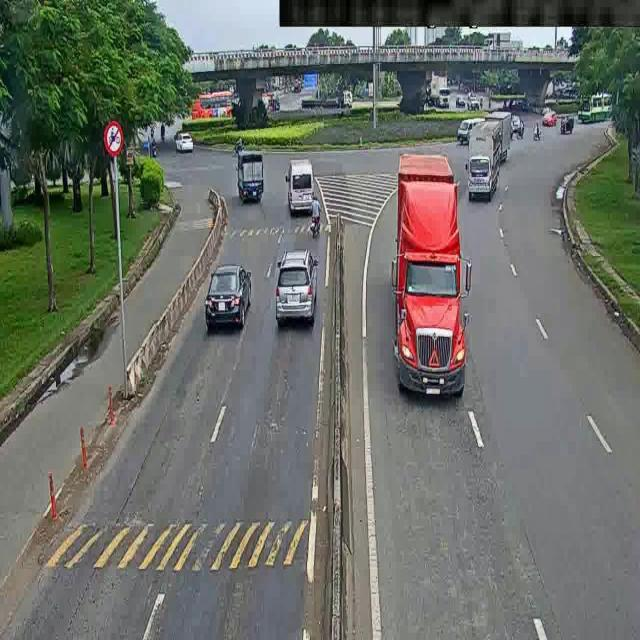bus: (199, 94, 261, 121), (577, 94, 614, 129)
car: (263, 247, 319, 318), (204, 257, 253, 332), (453, 113, 486, 138), (457, 95, 485, 110), (179, 132, 197, 153), (540, 107, 554, 132)
motorbike: (555, 112, 582, 138), (308, 200, 324, 240), (530, 119, 543, 144), (145, 123, 161, 141), (145, 134, 159, 154)
person: (105, 134, 133, 218)
truck: (389, 155, 474, 403), (463, 108, 511, 195), (230, 147, 282, 224), (279, 158, 319, 214), (427, 76, 455, 117)
